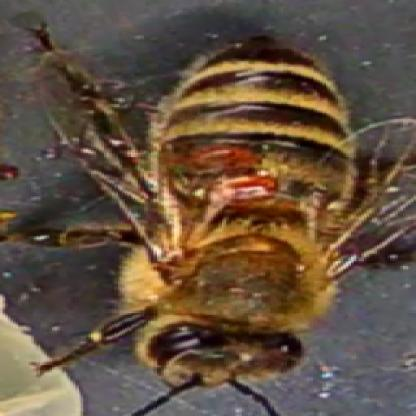bee: (127, 29, 339, 408)
vaoora: (187, 148, 256, 169), (218, 177, 278, 198)
